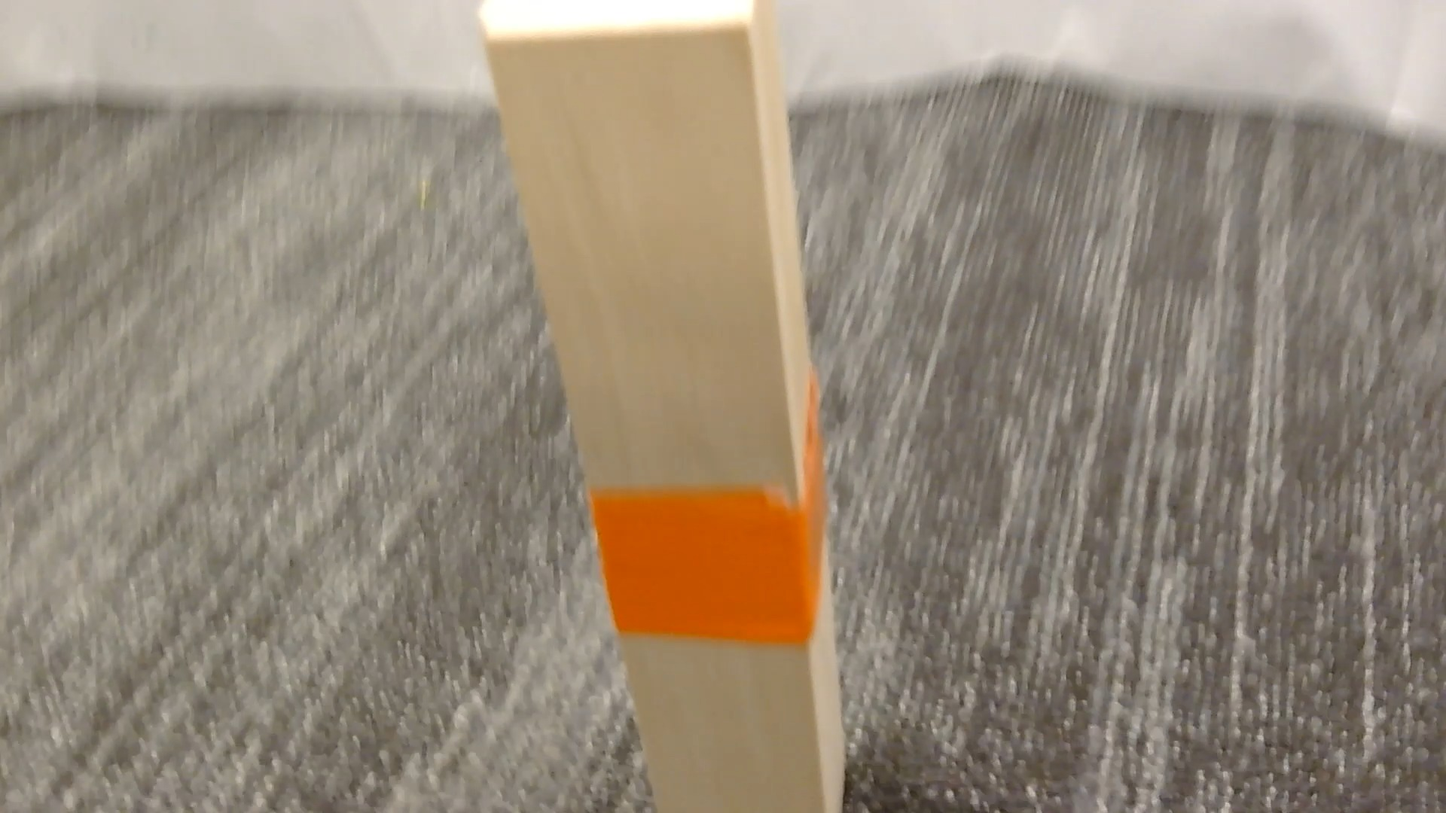Wooden Block: (480, 0, 844, 812)
